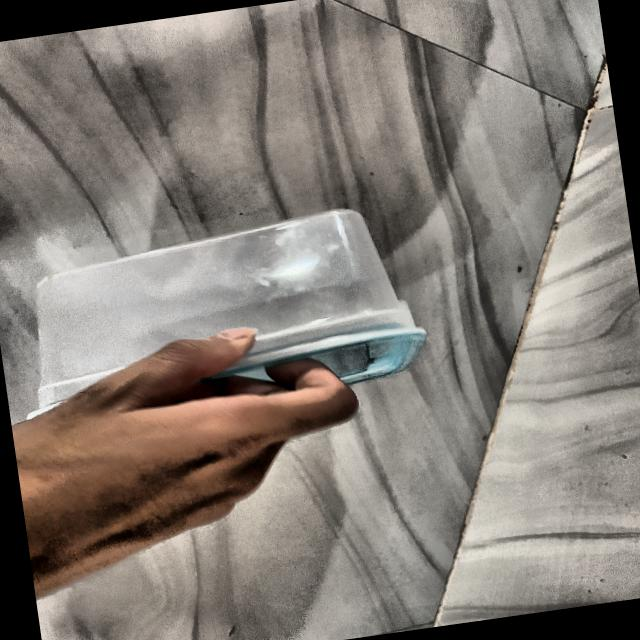plastic container: (9, 182, 408, 512)
